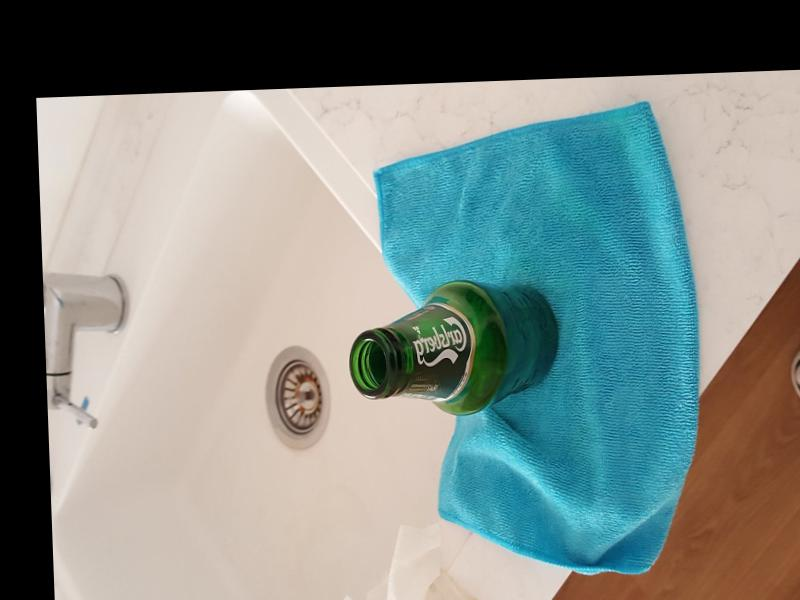Beer: (348, 283, 563, 420)
